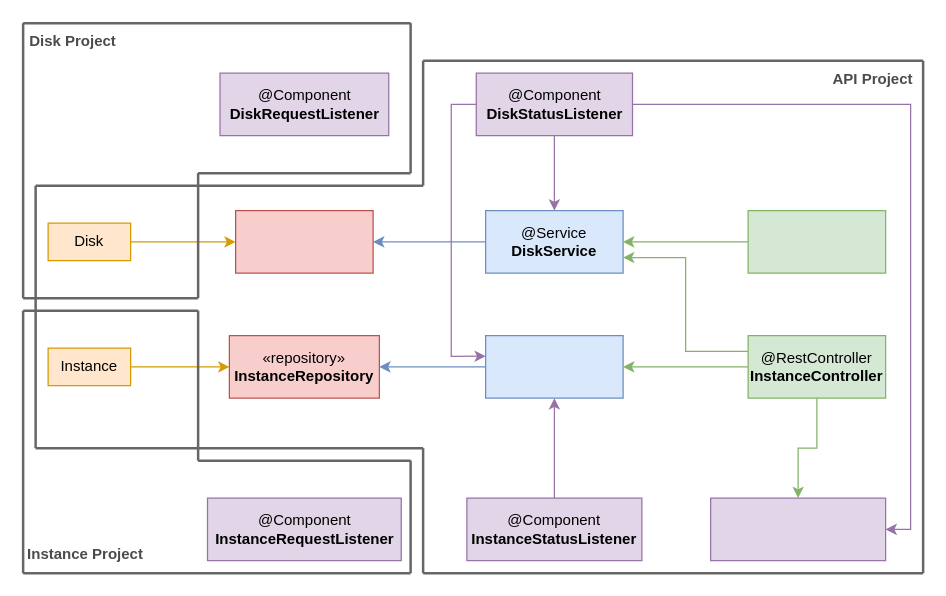
Image size: 946x596. Some labels were removed from this diagram. Each missing label, with the centre of its shape:
@Component MessageSender: [797,529]
@RestController DiskController: [816,241]
@Service InstanceService: [553,366]
«repository» DiskRepository: [303,241]
